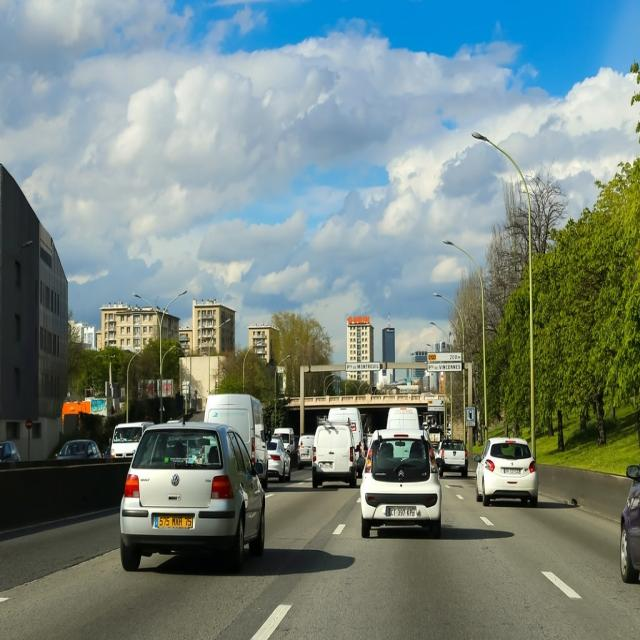Carro Branco: (353, 424, 445, 553), (470, 433, 544, 514), (264, 437, 294, 485)
Carro Cinza: (117, 419, 273, 581)
Carro Prata: (436, 436, 472, 478)
Van Branca: (201, 392, 271, 494), (309, 416, 359, 496)
